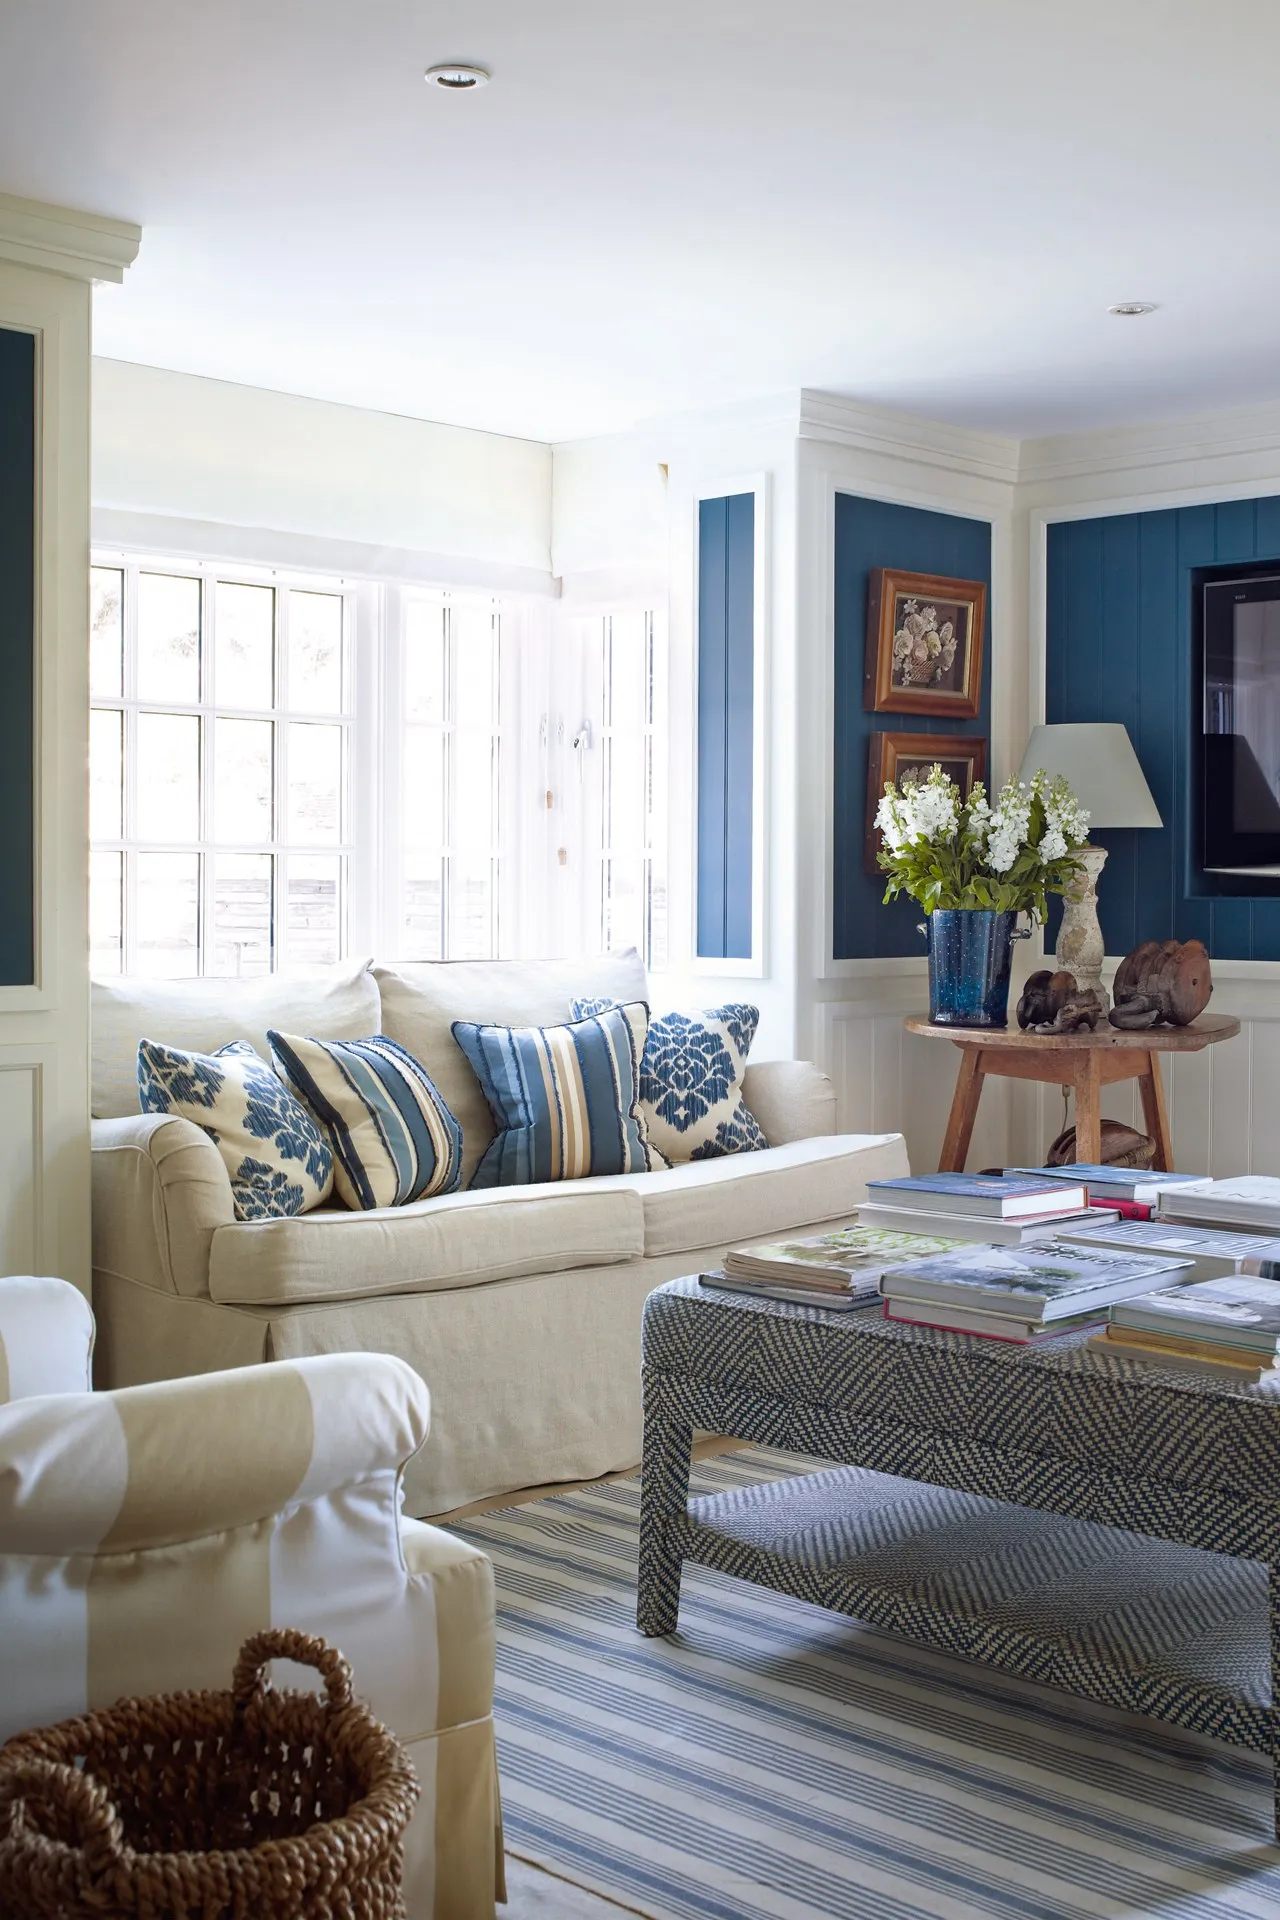chair: (0, 1253, 521, 1919)
flower vase: (867, 760, 1089, 1029)
side table: (934, 1019, 1234, 1177)
sofa: (84, 950, 910, 1519)
table: (634, 1177, 1280, 1789)
wall art: (1179, 554, 1280, 894), (859, 554, 989, 724)
